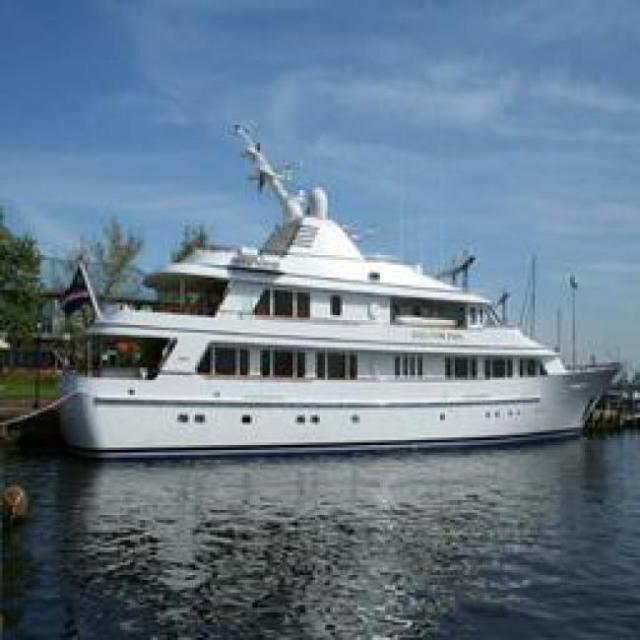boat: (26, 237, 627, 449)
